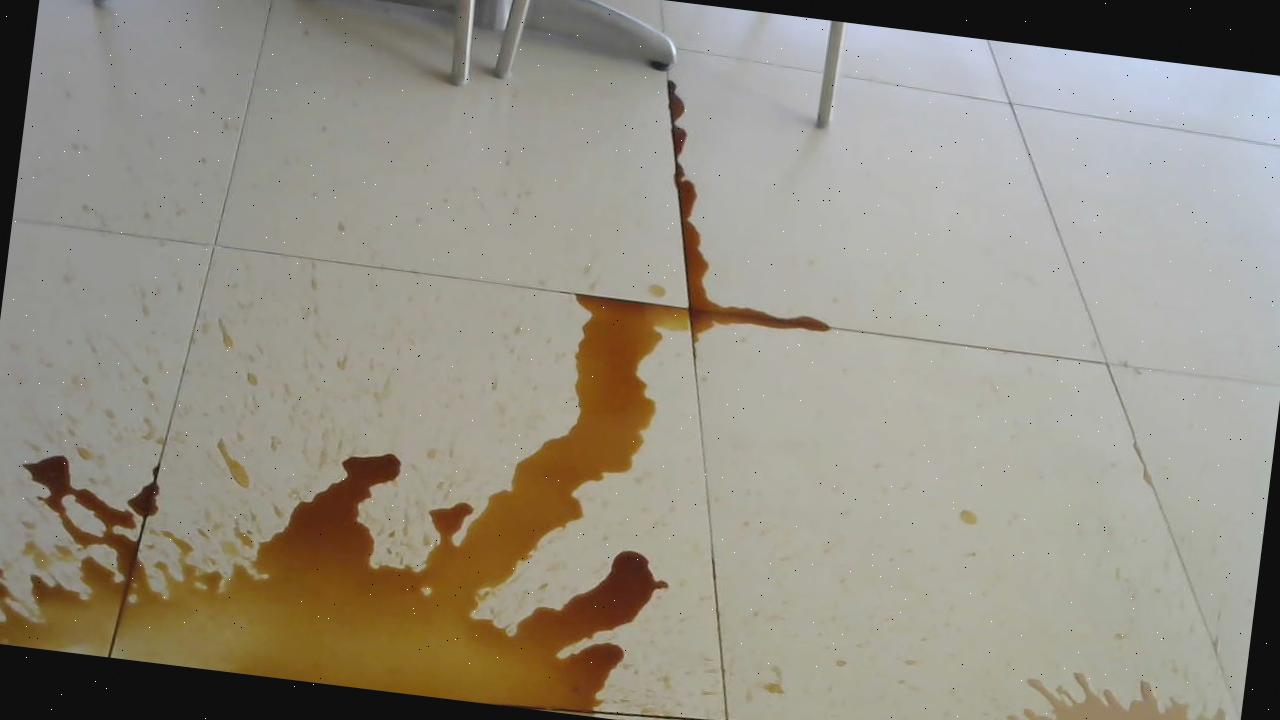dirty_floor: (0, 184, 835, 720), (978, 650, 1244, 720)
